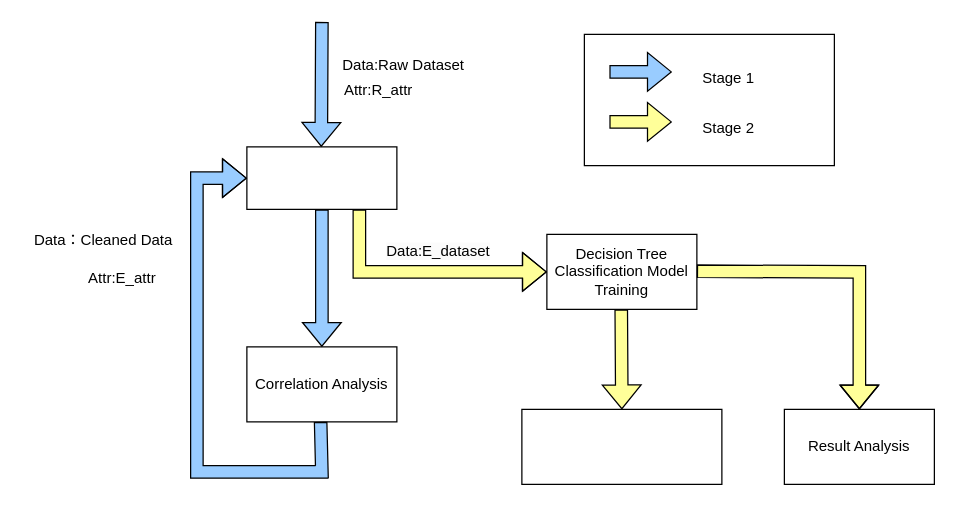
The diagram is 956 pixels wide and 506 high, and some of its shapes have lost their labels. The centre of each missing label's shape, as x and y in pixels:
"Data Missing Value Handling" belongs at (x=321, y=177).
"Patent Value Estimation Classification Model(our target)" belongs at (x=621, y=446).
